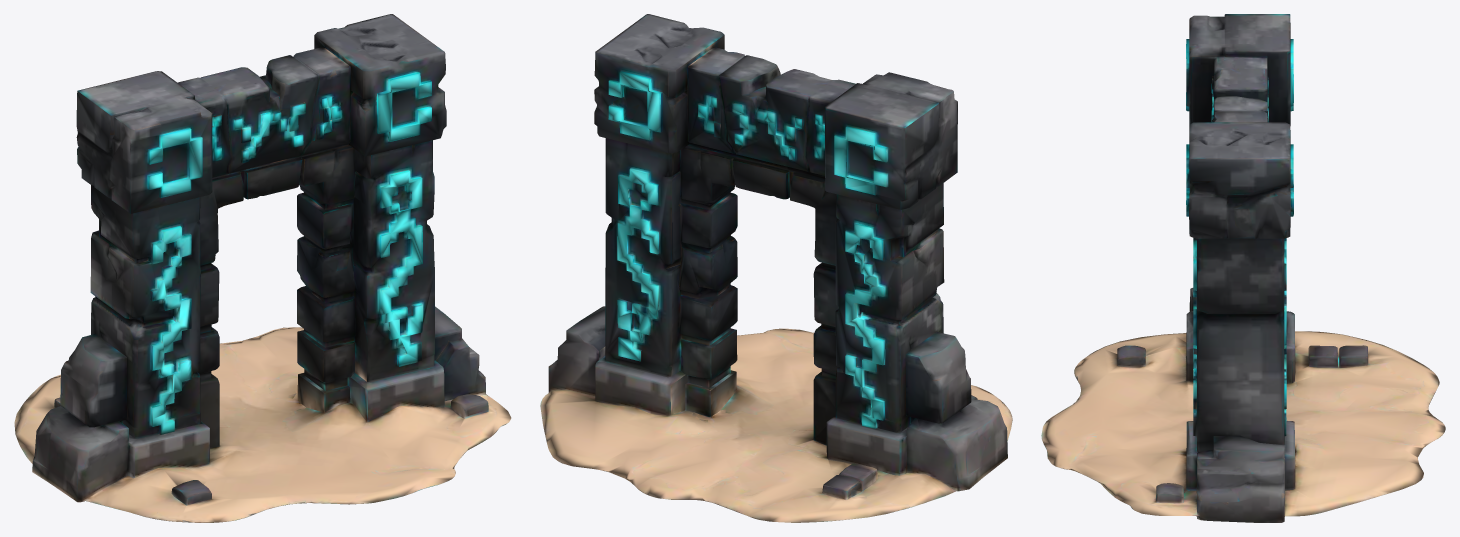
The model's file is gate.glb.
The picture shows the model from 3 angles, left to right: view 1: azimuth 30°, elevation 25°; view 2: azimuth 150°, elevation 25°; view 3: azimuth 270°, elevation 25°; orthographic projection. The views are drawn at different scales.
Visible parts, largest first — view 1: node_0; view 2: node_0; view 3: node_0.
Boxes of the visible parts, x1,y1,x2,y2 form: node_0: [14, 14, 511, 522]; node_0: [540, 14, 1012, 522]; node_0: [1041, 14, 1445, 522].
Size of the model in its own units: 0.9119 by 0.7471 by 0.8028.
Materials: 1 (1 with a texture image).
